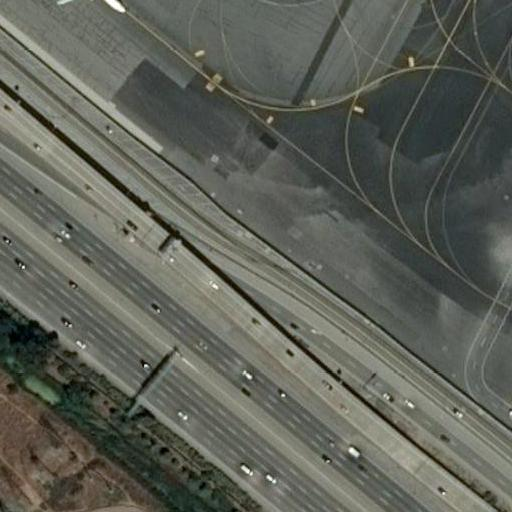Aircraft: (41, 0, 128, 15)
